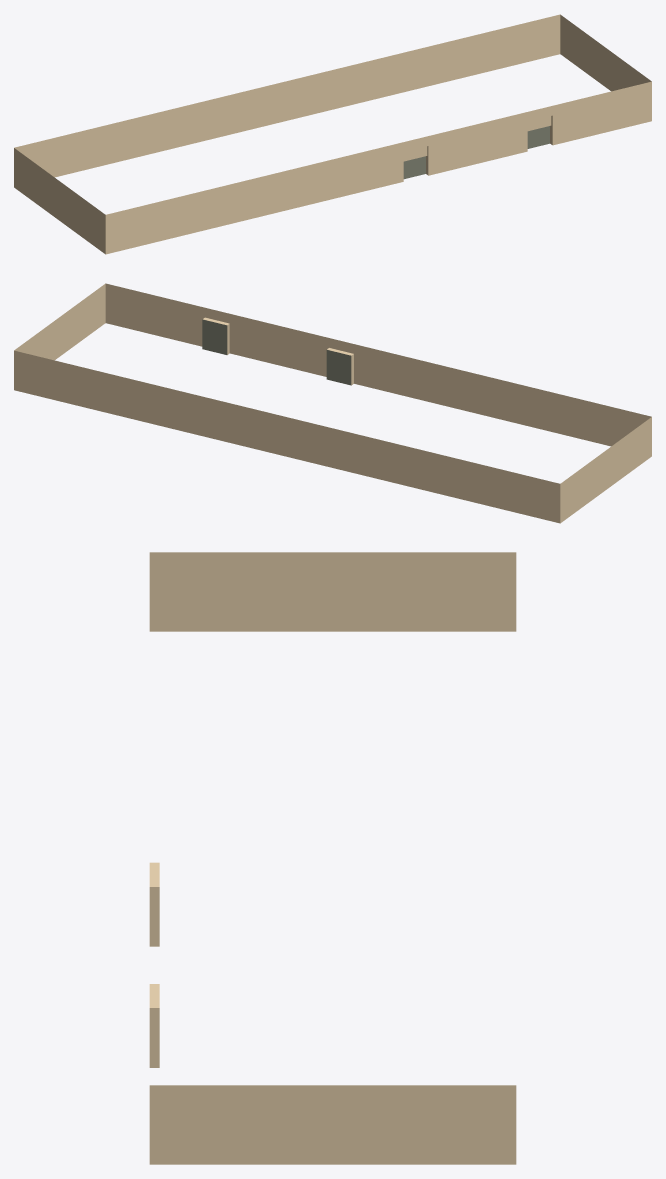
The model's file is fbx_building_3_floor1.fbx.
3 views of the same model, one above another, from view 1: azimuth 30°, elevation 25°; view 2: azimuth 150°, elevation 25°; view 3: azimuth 270°, elevation 25° (orthographic). The views are drawn at different scales.
Visible parts, largest first — view 1: fbx_building_3_floor1; view 2: fbx_building_3_floor1; view 3: fbx_building_3_floor1.
Part boxes in pixels (<box>): fbx_building_3_floor1: <box>14,14,651,254</box>; fbx_building_3_floor1: <box>14,283,651,523</box>; fbx_building_3_floor1: <box>149,552,516,1164</box>.
Size of the model in its own units: 16.72 by 1.16 by 4.86.
Materials: 1 (1 with a texture image).
